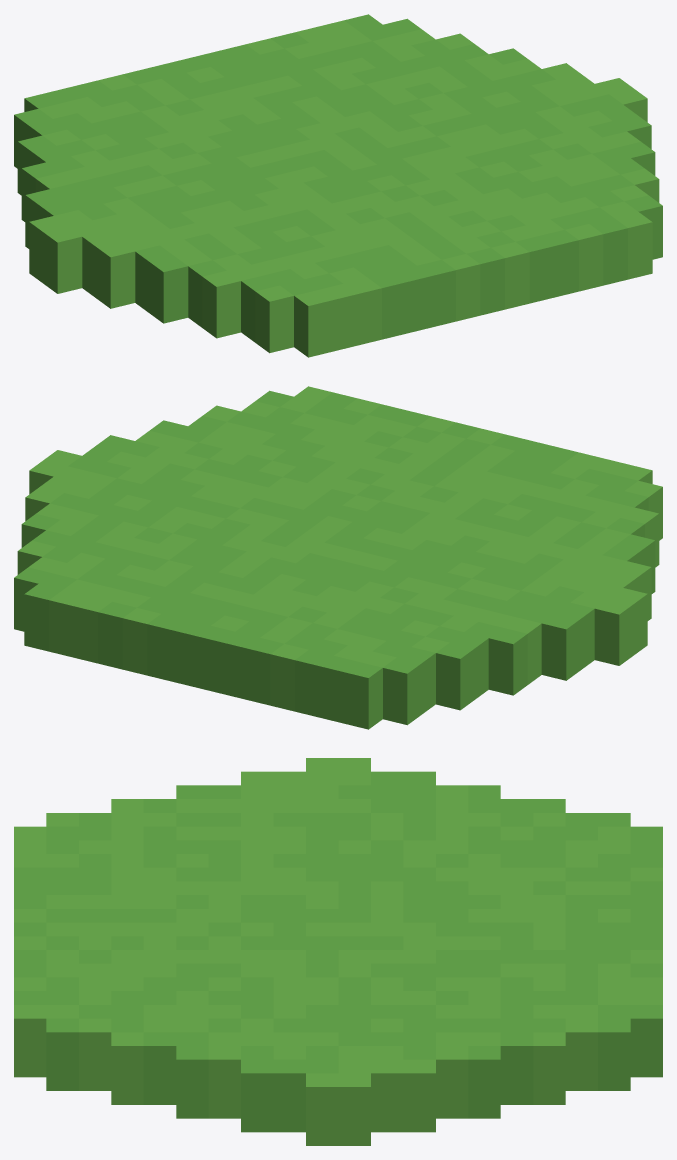
File: overworld-31-gassland_2px.obj
3 views of the same model, one above another, from view 1: azimuth 30°, elevation 25°; view 2: azimuth 150°, elevation 25°; view 3: azimuth 270°, elevation 25° (orthographic). The views are drawn at different scales.
Parts seen in each view (by area): view 1: gassland_2px; view 2: gassland_2px; view 3: gassland_2px.
Boxes of the visible parts, box(x1,y1,x2,y2) form: gassland_2px: box(14, 14, 662, 357); gassland_2px: box(14, 386, 662, 729); gassland_2px: box(14, 758, 662, 1145).
Size of the model in its own units: 2.4 by 0.2 by 2.
1 material, 1 textured.
